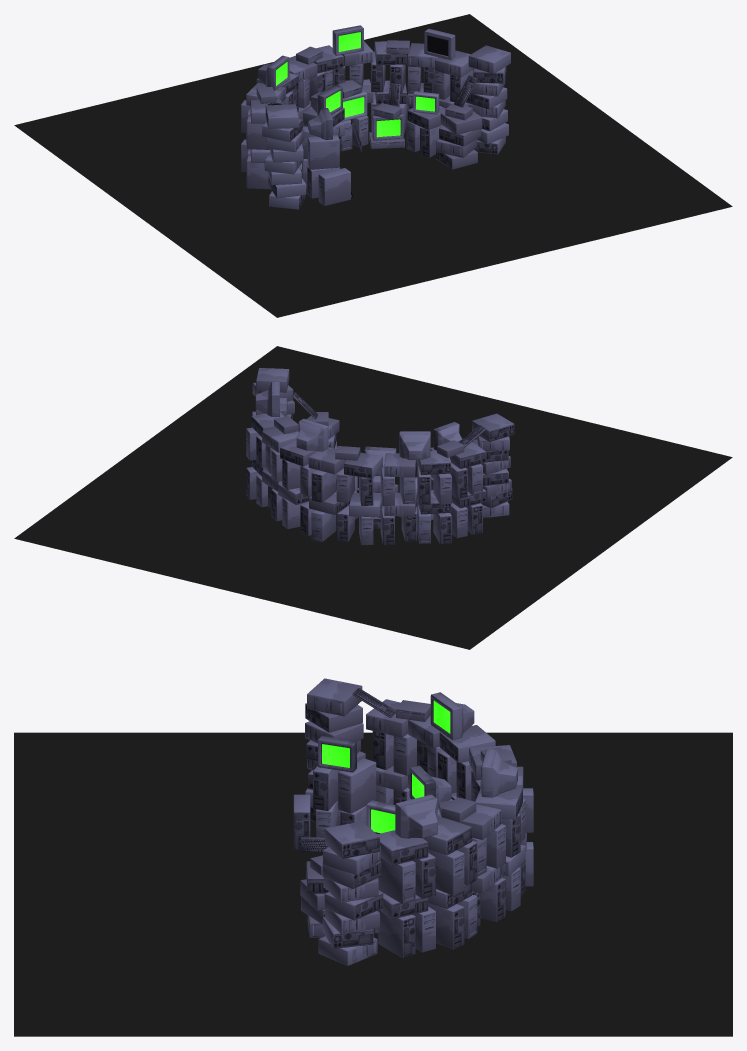
File: test_unwrapped.glb
3 renders of one model, top to bottom at view 1: azimuth 30°, elevation 25°; view 2: azimuth 150°, elevation 25°; view 3: azimuth 270°, elevation 25°, orthographic. The views are drawn at different scales.
Visible parts, largest first — view 1: Plane, PC 01.011, PC 01.010, PC 02.026, Screen D.003, Screen D.004, PC 02.012, Screen D.002, Screen D.001, Screen B.001, PC 01.052, PC 01.007 (+14 smaller); view 2: Plane, Screen D.003, Screen D.002, PC 02.012, PC 01.032, PC 02.021, PC 02.016, PC 01.033, PC 01.031, PC 02.026, Screen D.004, PC 02.022 (+14 smaller); view 3: Plane, PC 01.005, Screen D.004, PC 02.026, PC 02.012, Screen D.002, PC 02.027, PC 02.032, Screen D.003, PC 01.052, Screen B.002, PC 01.047 (+37 smaller).
Part boxes in pixels (x1,y1,x2,y2): Plane: [14, 14, 732, 317]; PC 01.011: [318, 168, 350, 205]; PC 01.010: [307, 135, 339, 169]; PC 02.026: [468, 45, 510, 73]; Screen D.003: [332, 25, 363, 55]; Screen D.004: [424, 28, 455, 60]; PC 02.012: [265, 104, 298, 128]; Screen D.002: [258, 55, 289, 90]; Screen D.001: [372, 113, 403, 140]; Screen B.001: [310, 84, 342, 115]; PC 01.052: [435, 50, 473, 77]; PC 01.007: [440, 111, 482, 134]; Plane: [14, 346, 732, 649]; Screen D.003: [296, 418, 328, 451]; Screen D.002: [399, 431, 430, 460]; PC 02.012: [472, 413, 514, 441]; PC 01.032: [344, 452, 382, 478]; PC 02.021: [311, 470, 336, 502]; PC 02.016: [311, 510, 336, 541]; PC 01.033: [308, 447, 346, 474]; PC 01.031: [384, 453, 416, 477]; PC 02.026: [256, 368, 289, 392]; Screen D.004: [255, 382, 279, 416]; PC 02.022: [417, 450, 451, 474]; Plane: [14, 732, 732, 1036]; PC 01.005: [338, 758, 376, 813]; Screen D.004: [395, 794, 437, 838]; PC 02.026: [324, 821, 379, 858]; PC 02.012: [307, 678, 362, 716]; Screen D.002: [430, 692, 474, 739]; PC 02.027: [378, 910, 415, 957]; PC 02.032: [378, 857, 415, 904]; Screen D.003: [481, 749, 517, 797]; PC 01.052: [377, 830, 428, 865]; Screen B.002: [318, 736, 356, 772]; PC 01.047: [428, 849, 464, 895].
Bounding box in the file's own units: 26 × 5.52 × 26.
Materials: 3 (1 with a texture image).
